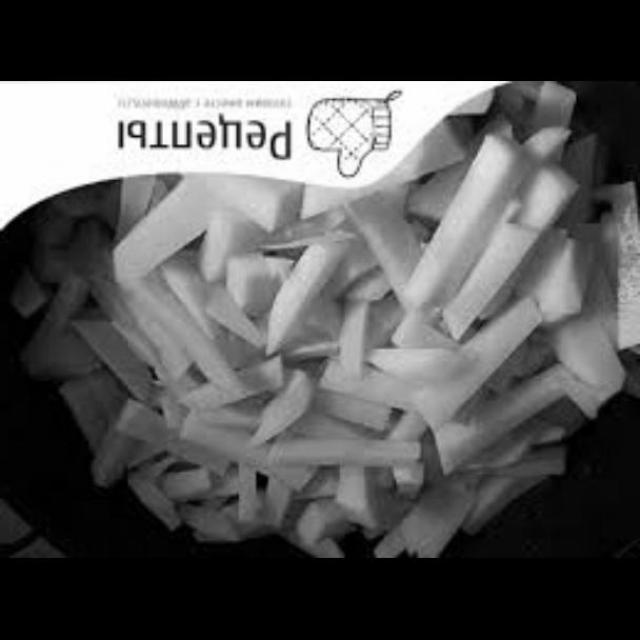khoai tay: (75, 92, 616, 559)
